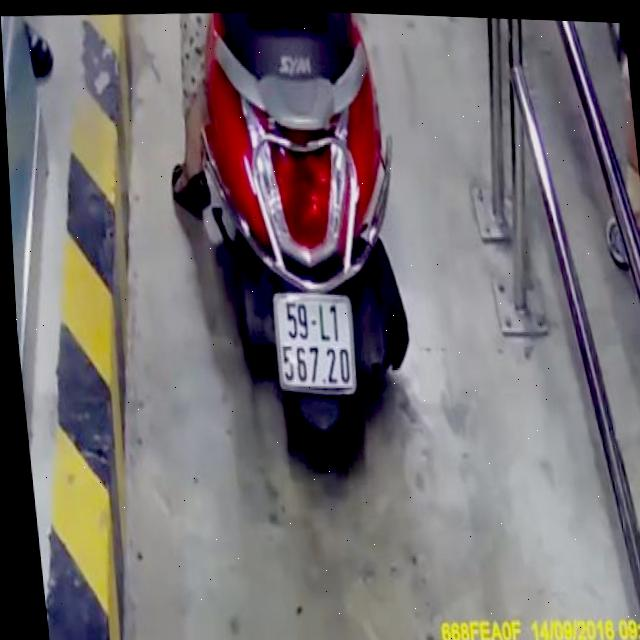motorcycle: (189, 12, 433, 485)
plate: (268, 283, 360, 401)
